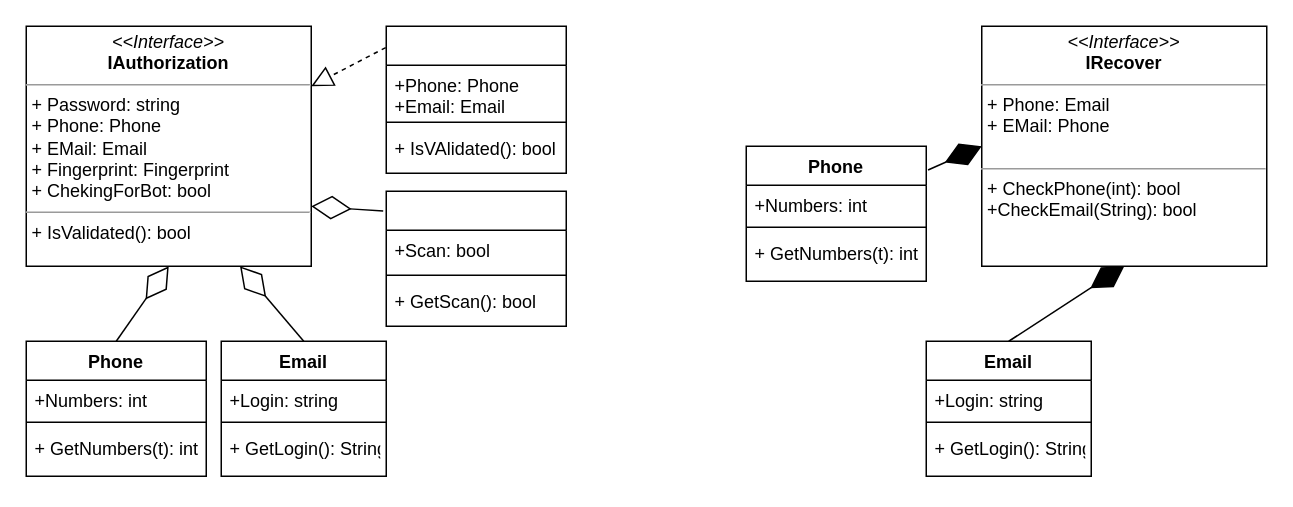
Some shapes in this 1293 by 507 pixel diagram are drawn without their labels. Each missing label, with the box of its shape:
Fingerprint: (385, 190, 566, 326)
ReAuthorization: (385, 25, 566, 173)
